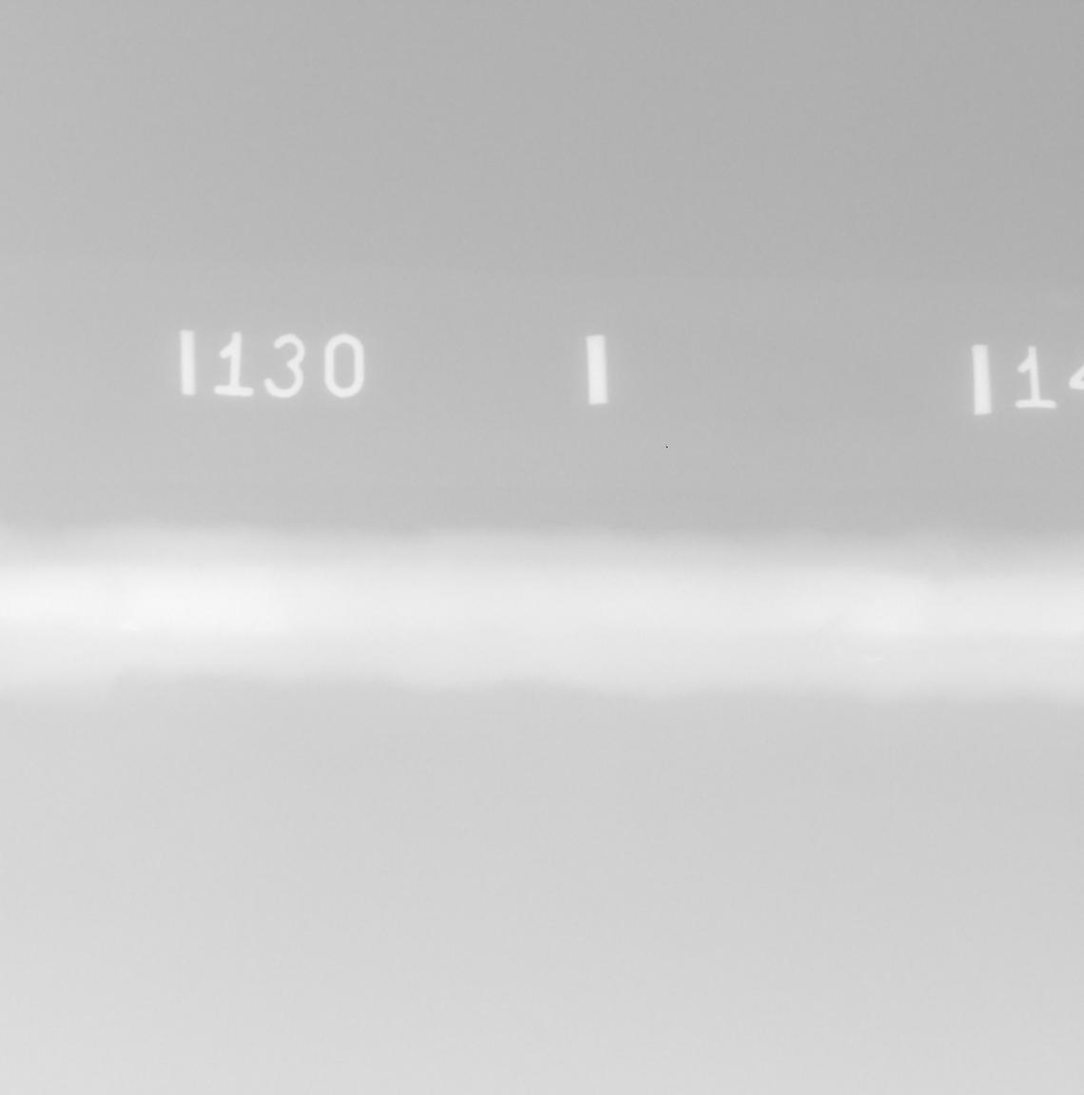Pore/Porosity: (956, 596, 962, 603)
